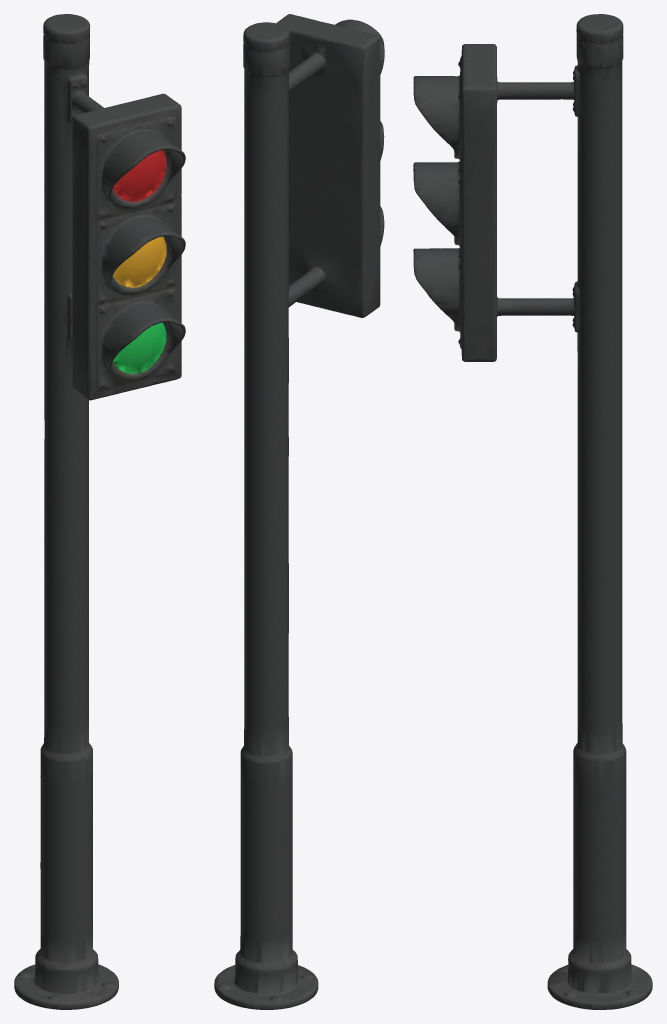
Rendered from tsignal.glb.
3 views of the same model, side by side, from view 1: azimuth 30°, elevation 25°; view 2: azimuth 150°, elevation 25°; view 3: azimuth 270°, elevation 25° (orthographic).
Visible parts, largest first — view 1: mesh_node; view 2: mesh_node; view 3: mesh_node.
Boxes of the visible parts, x1,y1,x2,y2 form: mesh_node: (14,14,185,1009); mesh_node: (214,14,384,1009); mesh_node: (413,14,652,1009).
Bounding box in the file's own units: 0.194 × 1.9 × 0.4271.
Materials: 1 (1 with a texture image).
